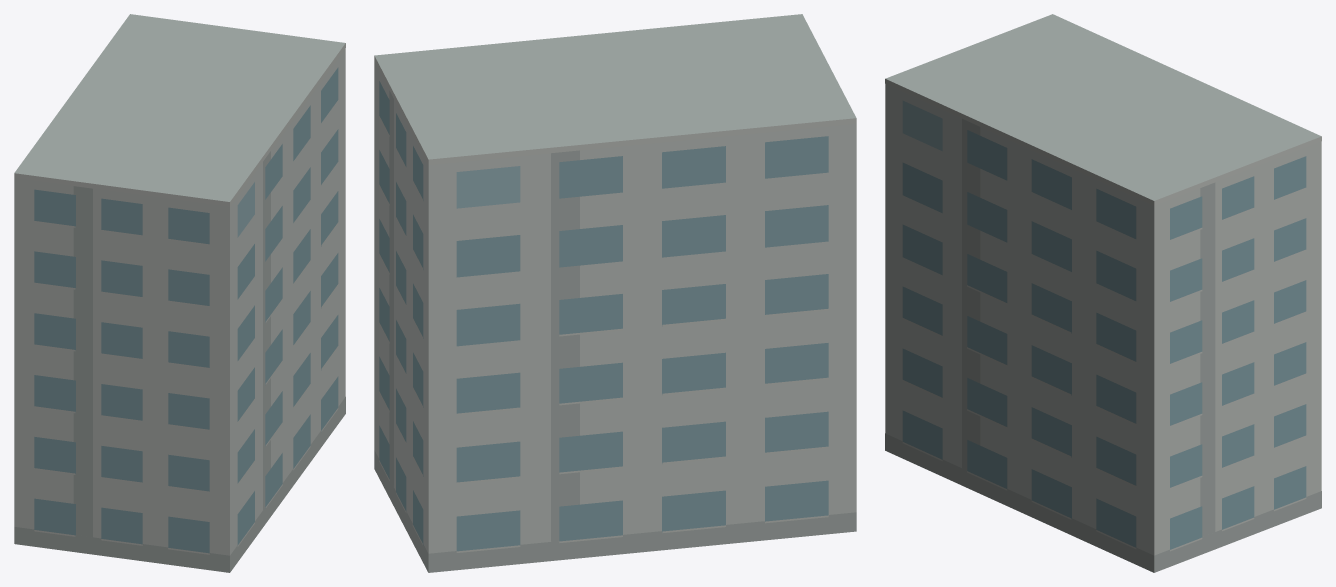
File: survey-upis-32625164.glb
3 views of the same model, side by side, from view 1: azimuth 30°, elevation 25°; view 2: azimuth 150°, elevation 25°; view 3: azimuth 270°, elevation 25° (orthographic). The views are drawn at different scales.
Parts seen in each view (by area): view 1: survey-upis-32625164.tmp; view 2: survey-upis-32625164.tmp; view 3: survey-upis-32625164.tmp.
Boxes of the visible parts, x1,y1,x2,y2 form: survey-upis-32625164.tmp: (14,14,345,572); survey-upis-32625164.tmp: (374,14,856,572); survey-upis-32625164.tmp: (885,14,1321,572).
Size of the model in its own units: 19.74 by 18.3 by 19.48.
